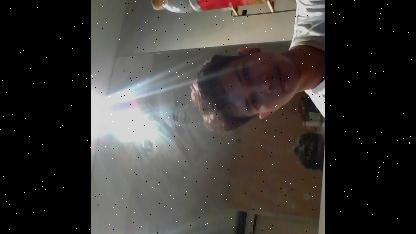Plastic Bottle: (150, 0, 273, 12)
